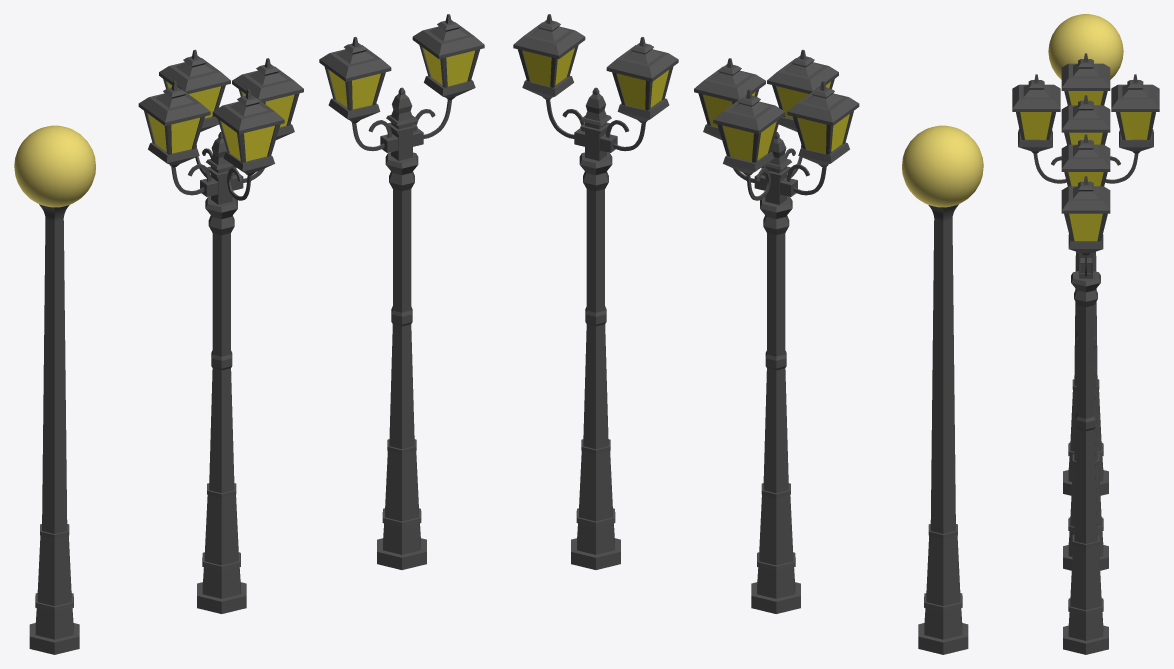
The model's file is old_street_lamp_pack.glb.
3 renders of one model, left to right at view 1: azimuth 30°, elevation 25°; view 2: azimuth 150°, elevation 25°; view 3: azimuth 270°, elevation 25°, orthographic. The views are drawn at different scales.
Parts seen in each view (by area): view 1: Cylinder.001, Cylinder, Cylinder.002; view 2: Cylinder.001, Cylinder, Cylinder.002; view 3: Cylinder, Cylinder.001, Cylinder.002.
Part boxes in pixels (left/top/right/bottom): Cylinder.001: left=138, top=49, right=303, bottom=613; Cylinder: left=319, top=14, right=484, bottom=569; Cylinder.002: left=14, top=125, right=95, bottom=654; Cylinder.001: left=694, top=49, right=859, bottom=613; Cylinder: left=513, top=14, right=678, bottom=569; Cylinder.002: left=902, top=125, right=983, bottom=654; Cylinder: left=1061, top=134, right=1110, bottom=654; Cylinder.001: left=1012, top=53, right=1159, bottom=570; Cylinder.002: left=1048, top=14, right=1123, bottom=495.
Bounding box in the file's own units: 5.53 × 6.23 × 1.7.
